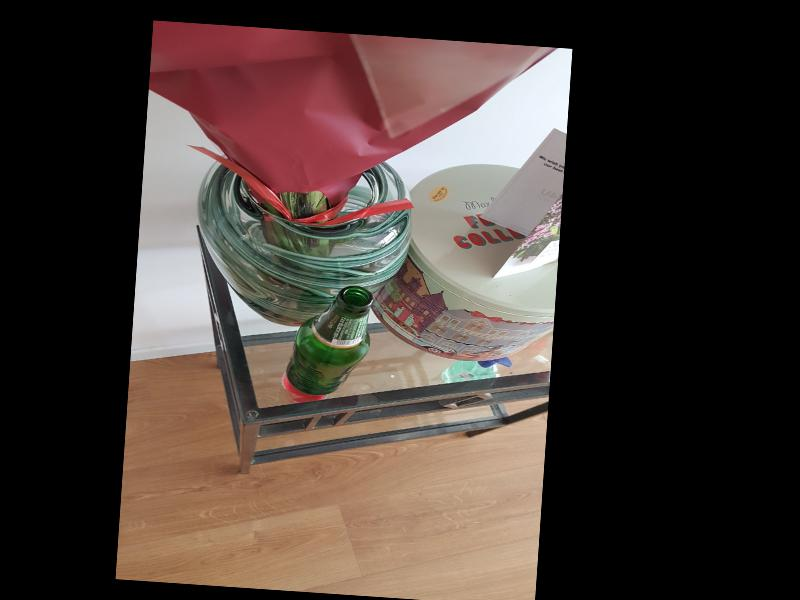Beer: (284, 282, 374, 398)
